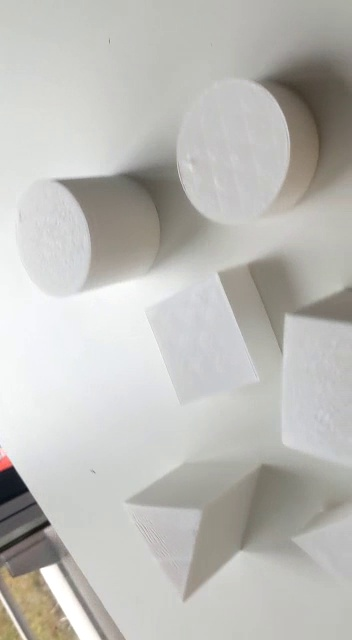Clyinder_short: (169, 74, 325, 229)
Cube: (275, 274, 352, 477)
Cube_short: (144, 258, 291, 406)
Cylinder: (14, 167, 163, 302)
Triangle: (120, 456, 266, 612)
Triangle_short: (287, 487, 352, 606)
